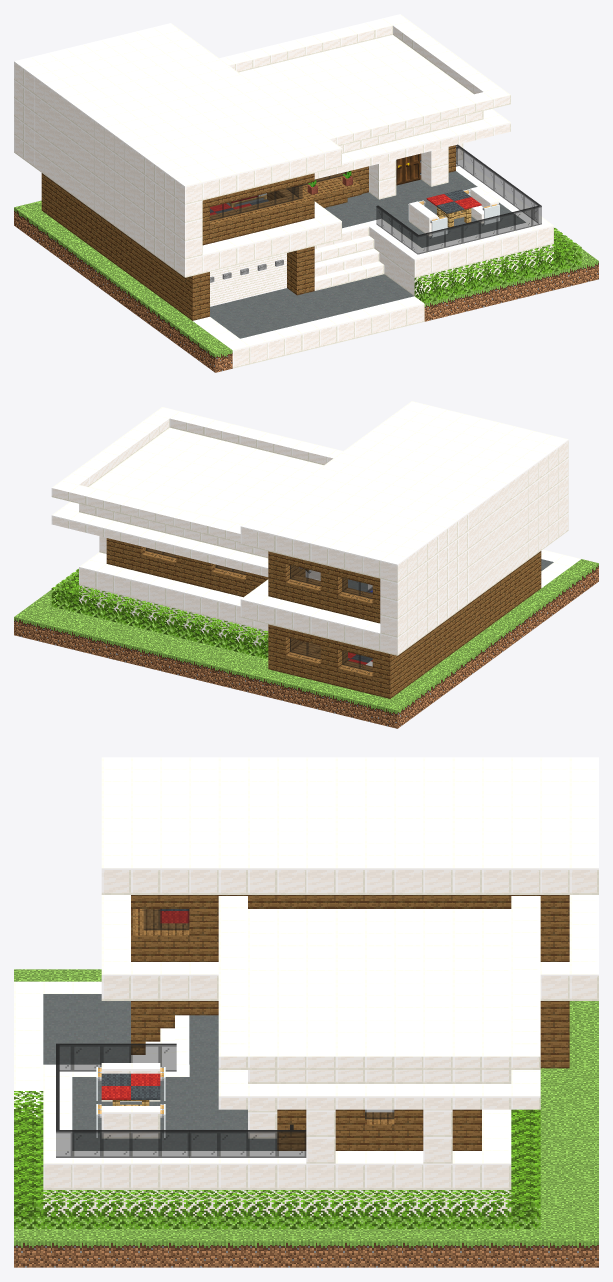
The model's file is modernHome1.glb.
3 views of the same model, one above another, from view 1: azimuth 30°, elevation 25°; view 2: azimuth 150°, elevation 25°; view 3: azimuth 270°, elevation 25° (orthographic). The views are drawn at different scales.
Visible parts, largest first — view 1: Object_6, Object_24, Object_37, Object_18, Object_11, Object_34, Object_23, Object_28, Object_8, Object_33, Object_12, Object_40; view 2: Object_6, Object_18, Object_24, Object_37, Object_23, Object_34; view 3: Object_6, Object_18, Object_37, Object_23, Object_24, Object_11, Object_34, Object_28, Object_8.
Boxes of the visible parts, x1,y1,x2,y2 form: Object_6: [14, 23, 553, 368]; Object_24: [41, 145, 455, 320]; Object_37: [219, 14, 510, 179]; Object_18: [14, 200, 598, 372]; Object_11: [210, 171, 525, 338]; Object_34: [210, 144, 541, 254]; Object_23: [414, 228, 581, 303]; Object_28: [314, 186, 498, 290]; Object_8: [210, 189, 481, 215]; Object_33: [302, 179, 361, 207]; Object_12: [396, 153, 421, 185]; Object_40: [408, 189, 499, 237]; Object_6: [79, 401, 580, 655]; Object_18: [14, 559, 598, 728]; Object_24: [106, 538, 541, 698]; Object_37: [51, 407, 342, 576]; Object_23: [51, 568, 268, 658]; Object_34: [146, 547, 372, 671]; Object_6: [14, 757, 598, 1216]; Object_18: [14, 969, 598, 1267]; Object_37: [218, 896, 540, 1109]; Object_23: [14, 1091, 540, 1228]; Object_24: [131, 895, 569, 1150]; Object_11: [43, 994, 276, 1150]; Object_34: [56, 909, 394, 1157]; Object_28: [101, 1015, 189, 1138]; Object_8: [101, 909, 188, 1099].
Bounding box in the file's own units: 2.44 × 1 × 2.22.
40 materials, 40 textured.
